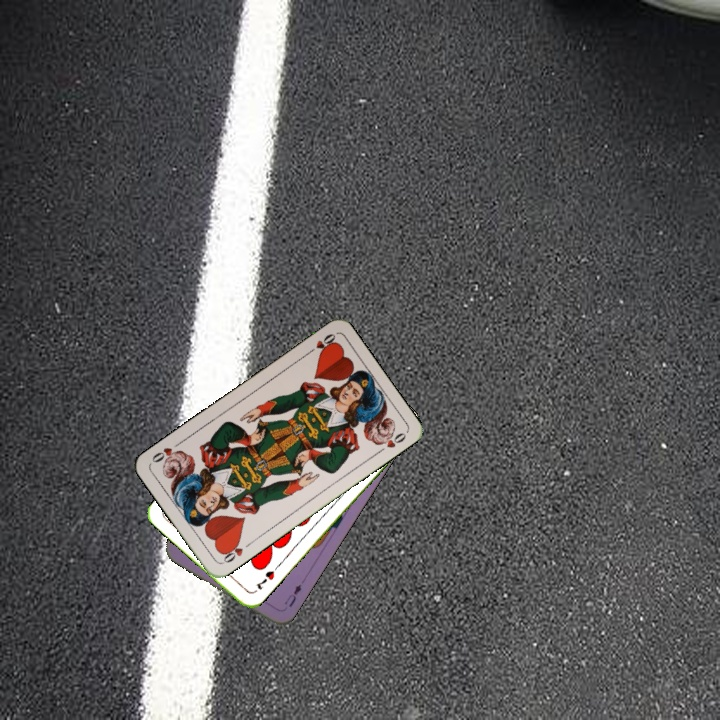EU: (280, 580, 304, 610)
H7: (252, 566, 277, 592)
HO: (218, 537, 254, 566), (302, 329, 338, 358)
